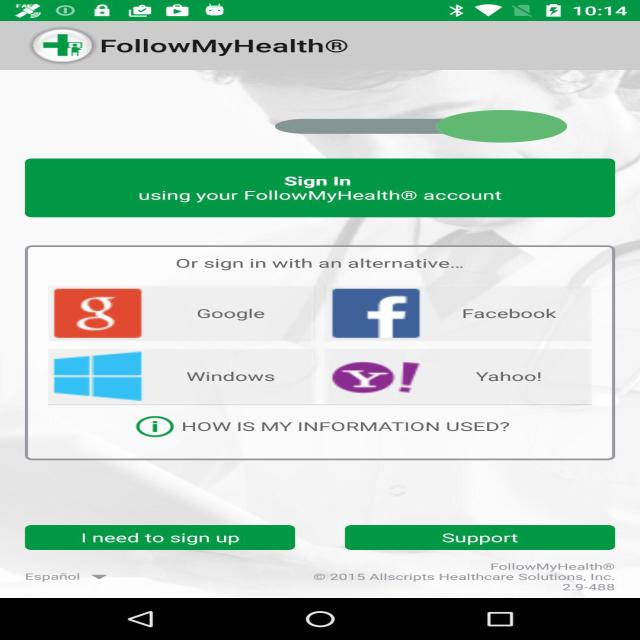social proof: (275, 90, 567, 163)
